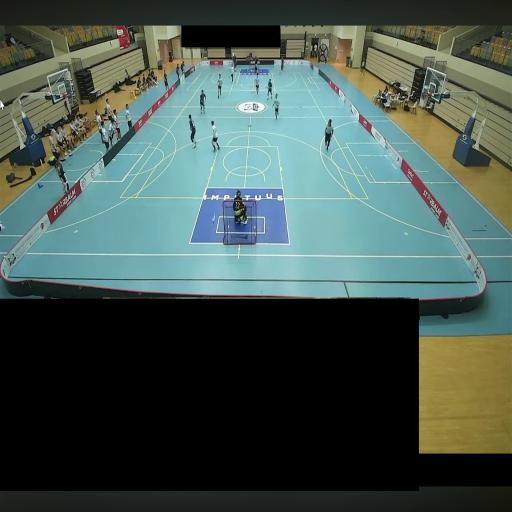Goalkeeper: (233, 191, 246, 223), (255, 56, 259, 73)
Player: (211, 120, 219, 151), (189, 114, 196, 147), (273, 93, 279, 119), (200, 90, 206, 113), (267, 79, 272, 99), (218, 74, 222, 98), (255, 72, 259, 94), (230, 64, 234, 83), (233, 53, 237, 71), (281, 57, 284, 71)
Referee: (325, 119, 334, 151), (232, 52, 235, 65)
ball: (196, 128, 197, 130)
